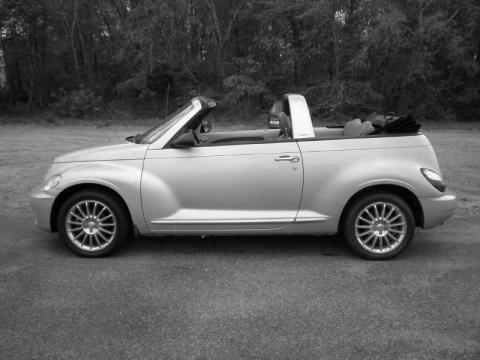car: (29, 94, 456, 261)
